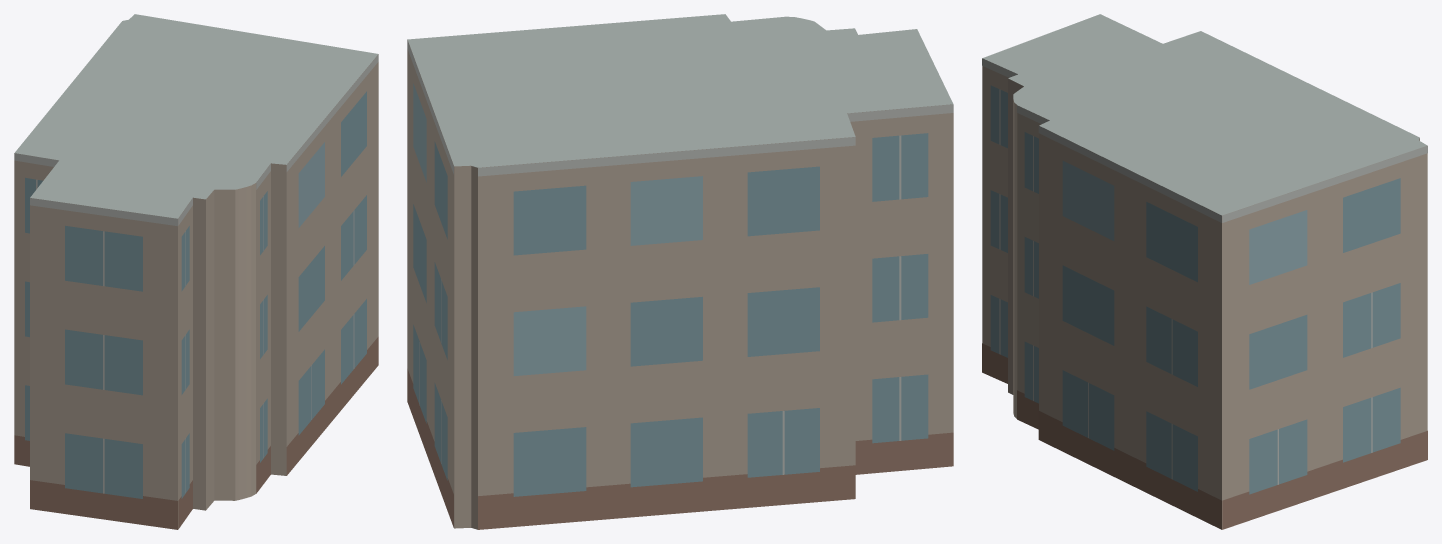
File: survey-upis-32932428.glb
3 renders of one model, left to right at view 1: azimuth 30°, elevation 25°; view 2: azimuth 150°, elevation 25°; view 3: azimuth 270°, elevation 25°, orthographic. The views are drawn at different scales.
Parts seen in each view (by area): view 1: survey-upis-32932428.tmp; view 2: survey-upis-32932428.tmp; view 3: survey-upis-32932428.tmp.
Boxes of the visible parts, x1,y1,x2,y2 form: survey-upis-32932428.tmp: (14, 14, 378, 529); survey-upis-32932428.tmp: (407, 14, 953, 529); survey-upis-32932428.tmp: (982, 14, 1427, 529).
Size of the model in its own units: 13.89 by 10.09 by 12.97.
